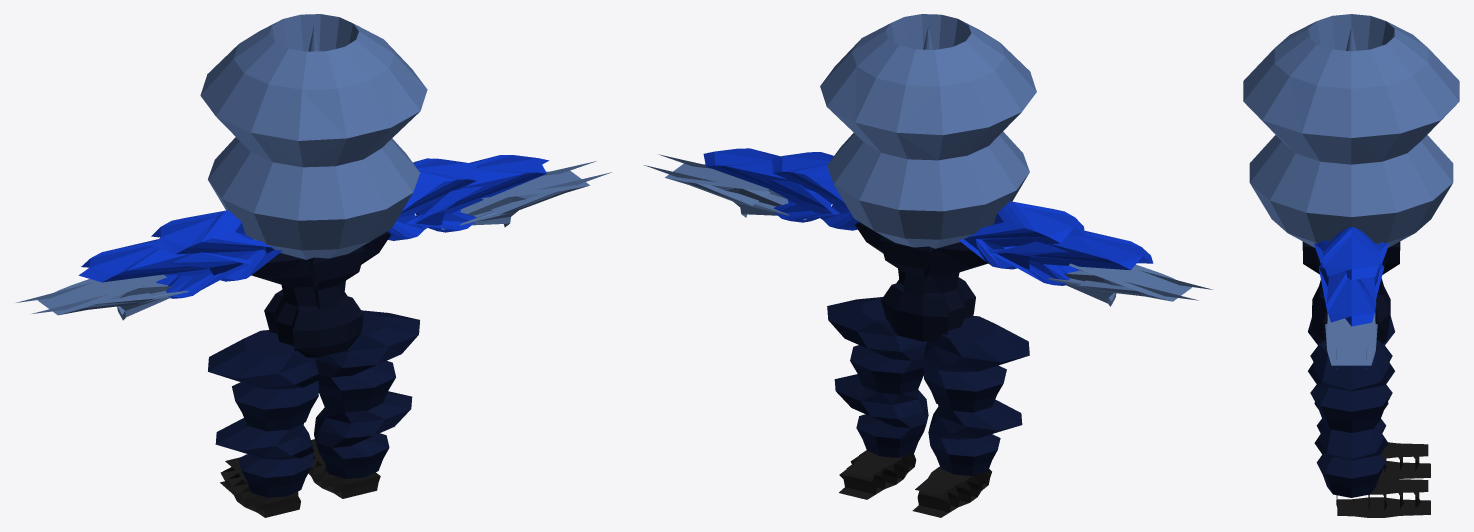
The model's file is c56808ab-1929-4b13-a433-f7a4dec81042.glb.
3 views of the same model, side by side, from view 1: azimuth 30°, elevation 25°; view 2: azimuth 150°, elevation 25°; view 3: azimuth 270°, elevation 25° (orthographic). The views are drawn at different scales.
Parts seen in each view (by area): view 1: Head, Torso, Leg_L_Upper, Leg_R_Upper, Leg_R_Lower, Arm_L_Lower, Leg_L_Lower, Arm_L_Upper, Arm_R_Lower, Hand_L, Hand_R, Arm_R_Upper (+2 smaller); view 2: Head, Torso, Leg_L_Upper, Leg_R_Upper, Leg_R_Lower, Arm_L_Lower, Leg_L_Lower, Arm_L_Upper, Arm_R_Lower, Hand_L, Hand_R, Arm_R_Upper (+2 smaller); view 3: Head, Leg_R_Upper, Leg_R_Lower, Arm_R_Upper, Arm_R_Lower, Foot_R, Torso, Hand_R, Foot_L, Leg_L_Upper.
Part boxes in pixels (bbox=[...]): Head: bbox=[200, 14, 427, 259]; Torso: bbox=[251, 231, 390, 357]; Leg_L_Upper: bbox=[208, 330, 318, 431]; Leg_R_Upper: bbox=[315, 310, 419, 412]; Leg_R_Lower: bbox=[314, 391, 412, 478]; Arm_L_Lower: bbox=[78, 239, 252, 298]; Leg_L_Lower: bbox=[215, 418, 313, 497]; Arm_L_Upper: bbox=[150, 210, 282, 281]; Arm_R_Lower: bbox=[406, 155, 549, 232]; Hand_L: bbox=[16, 274, 189, 320]; Hand_R: bbox=[441, 161, 611, 229]; Arm_R_Upper: bbox=[387, 158, 477, 240]; Head: bbox=[820, 14, 1036, 248]; Torso: bbox=[855, 222, 987, 342]; Leg_L_Upper: bbox=[923, 315, 1029, 412]; Leg_R_Upper: bbox=[827, 297, 927, 394]; Leg_R_Lower: bbox=[834, 374, 928, 457]; Arm_L_Lower: bbox=[987, 230, 1153, 285]; Leg_L_Lower: bbox=[928, 399, 1022, 475]; Arm_L_Upper: bbox=[958, 201, 1084, 269]; Arm_R_Lower: bbox=[703, 148, 840, 222]; Hand_L: bbox=[1047, 263, 1213, 306]; Hand_R: bbox=[644, 154, 806, 219]; Arm_R_Upper: bbox=[772, 152, 858, 230]; Head: bbox=[1243, 14, 1459, 247]; Leg_R_Upper: bbox=[1308, 340, 1394, 432]; Leg_R_Lower: bbox=[1314, 422, 1388, 497]; Arm_R_Upper: bbox=[1314, 227, 1388, 280]; Arm_R_Lower: bbox=[1318, 263, 1384, 326]; Foot_R: bbox=[1336, 477, 1430, 517]; Torso: bbox=[1302, 241, 1400, 343]; Hand_R: bbox=[1325, 313, 1377, 369]; Foot_L: bbox=[1379, 442, 1430, 478]; Leg_L_Upper: bbox=[1308, 316, 1394, 361].
Bounding box in the file's own units: 0.9152 × 0.7085 × 0.2993.
